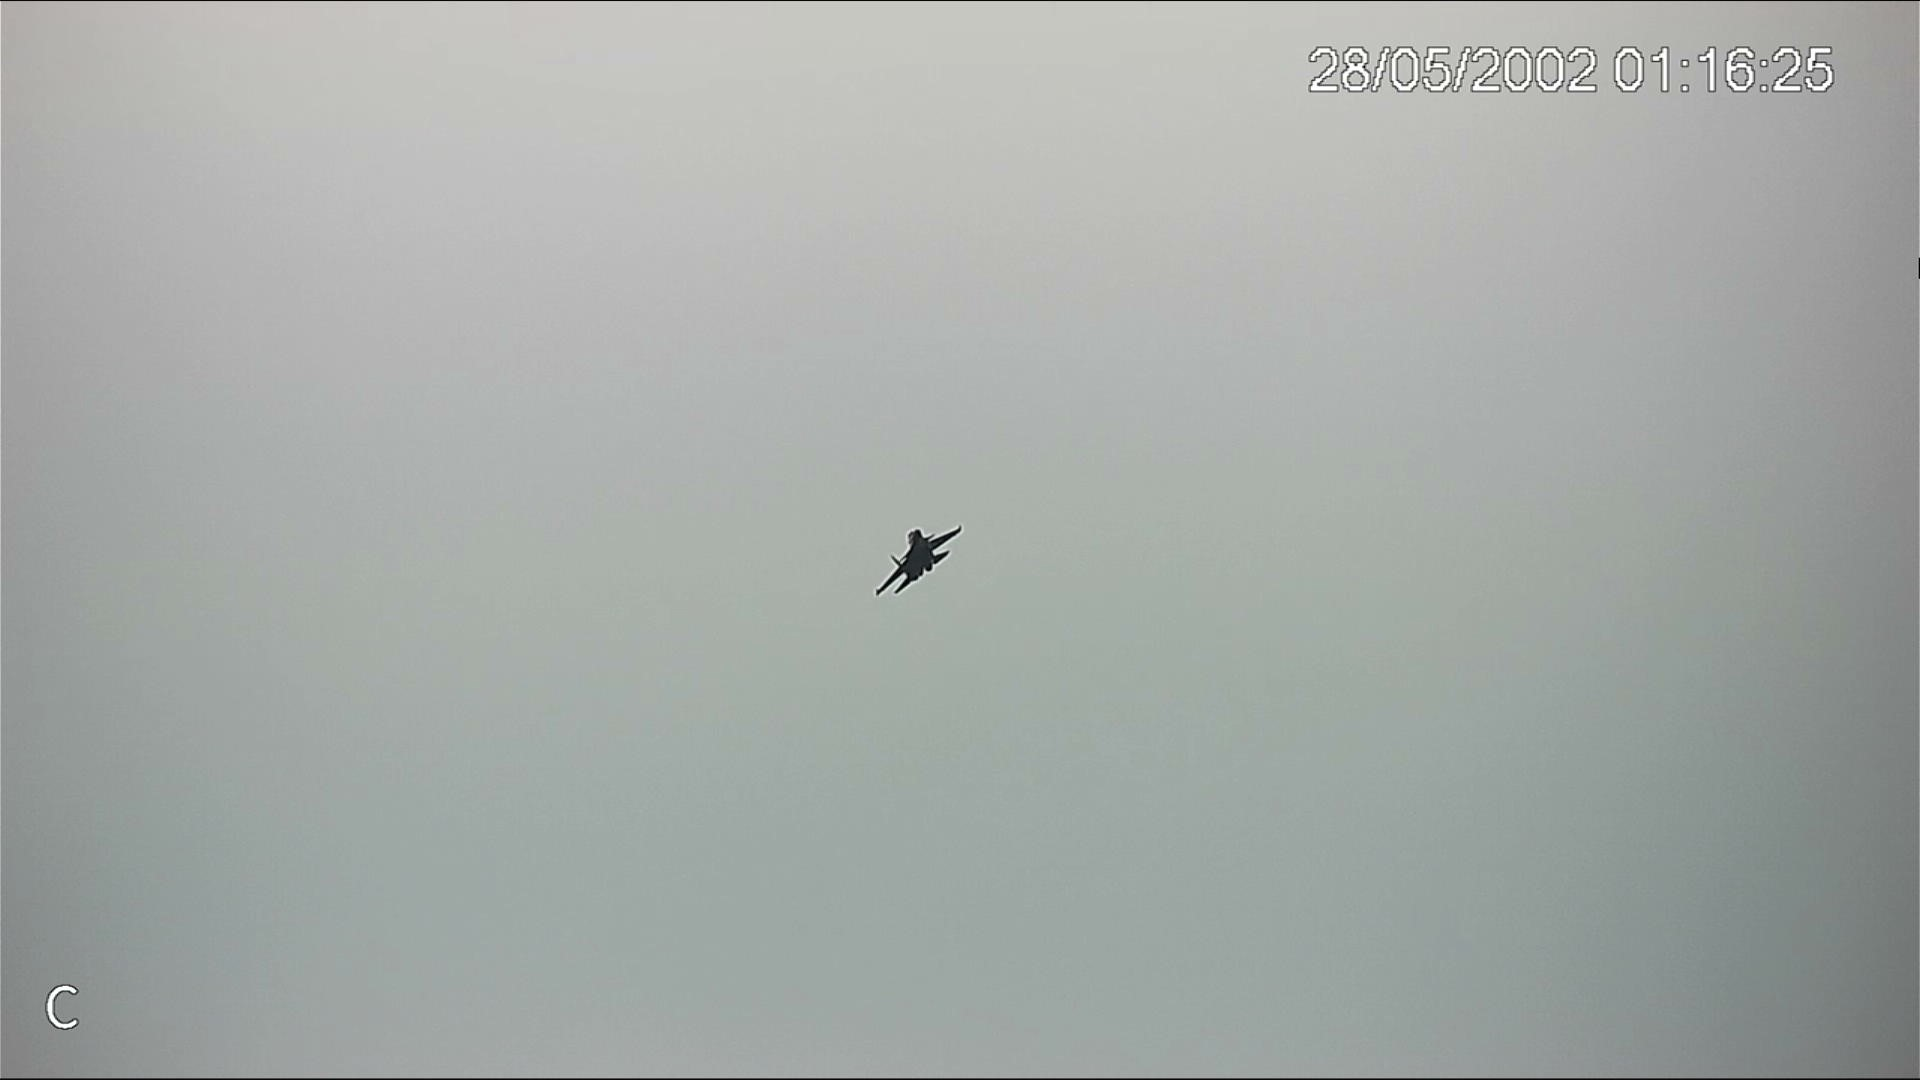SU_30: (870, 526, 965, 593)
